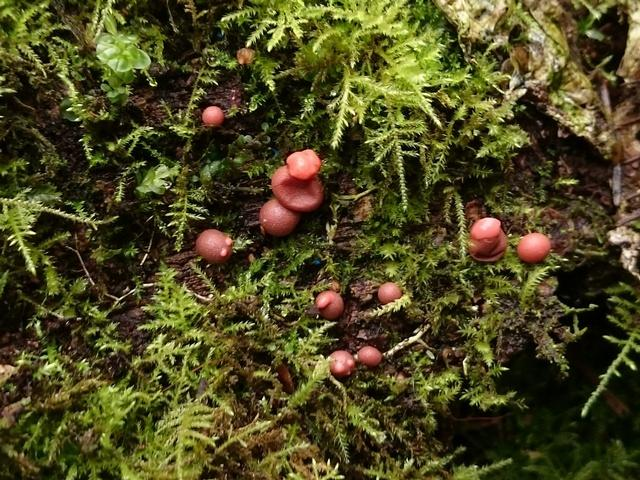Non-edible Mushroom: (258, 148, 324, 237), (270, 164, 323, 211), (467, 216, 507, 262), (258, 198, 299, 236), (194, 228, 233, 264), (285, 148, 321, 181), (516, 231, 551, 263), (314, 289, 344, 319), (327, 349, 355, 377), (376, 281, 402, 304), (356, 344, 382, 367), (201, 104, 224, 127)
